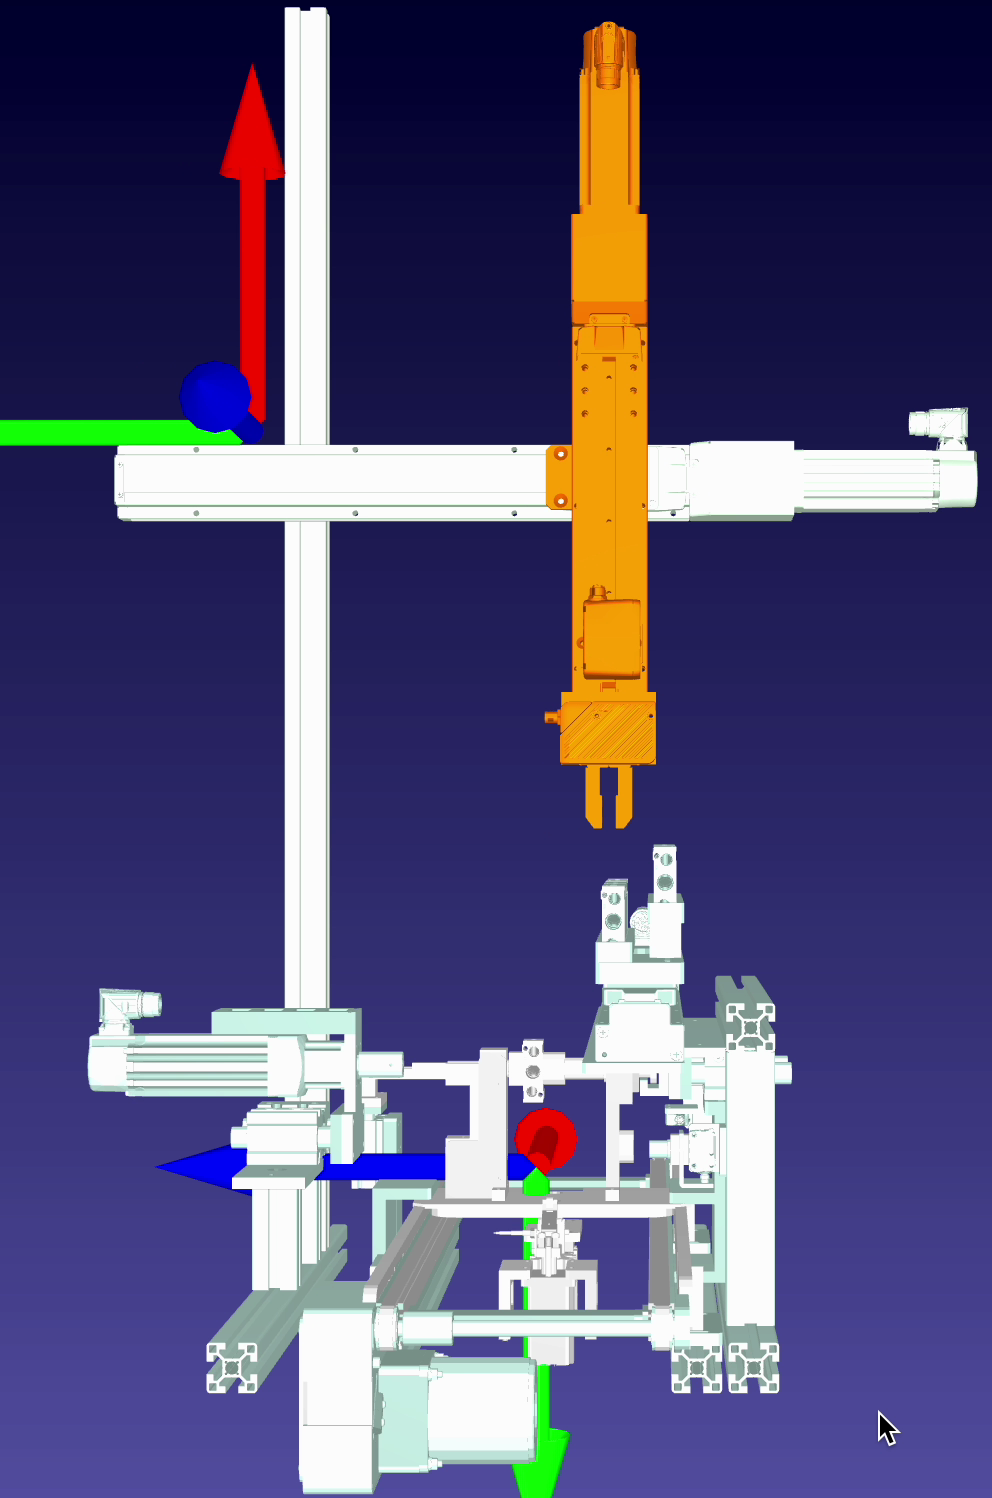Gripper: (542, 681, 682, 839)
